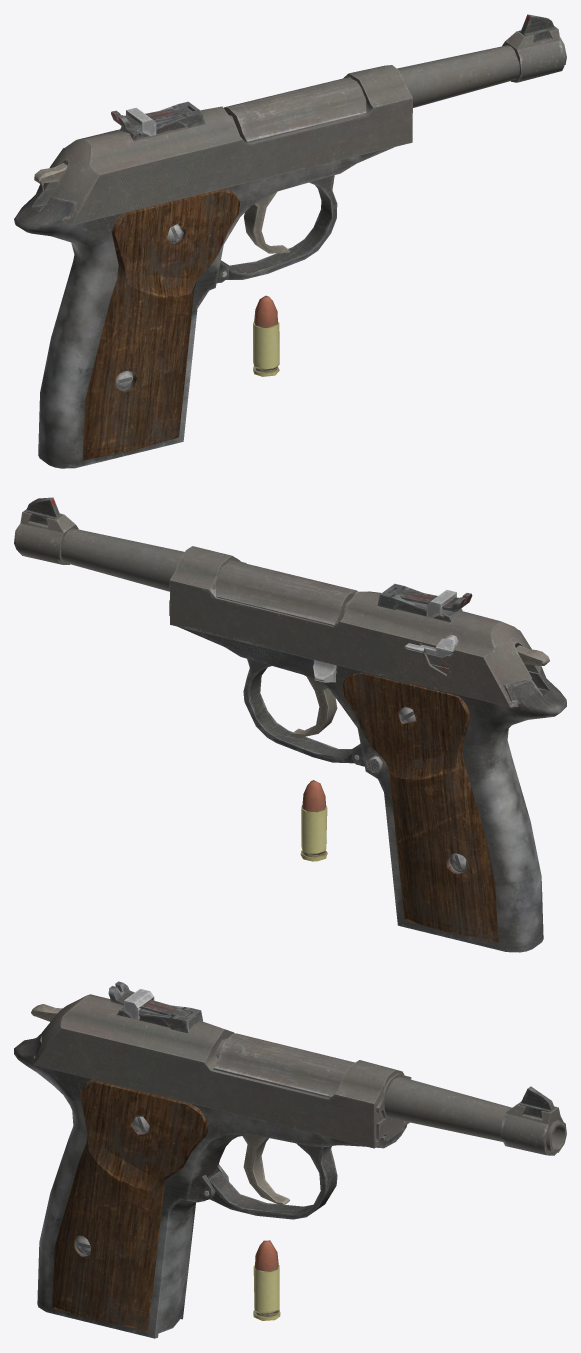
Rendered from hpistol.glb.
The picture shows the model from 3 angles, top to bottom: view 1: azimuth 30°, elevation 25°; view 2: azimuth 150°, elevation 25°; view 3: azimuth 330°, elevation 25°; orthographic projection.
Visible parts, largest first — view 1: hpistol; view 2: hpistol; view 3: hpistol.
Boxes of the visible parts, bbox=[...] form: hpistol: bbox=[14, 14, 566, 468]; hpistol: bbox=[14, 497, 566, 952]; hpistol: bbox=[14, 981, 566, 1338].
Size of the model in its own units: 0.2218 by 0.1295 by 0.0317.
1 material, 1 textured.
